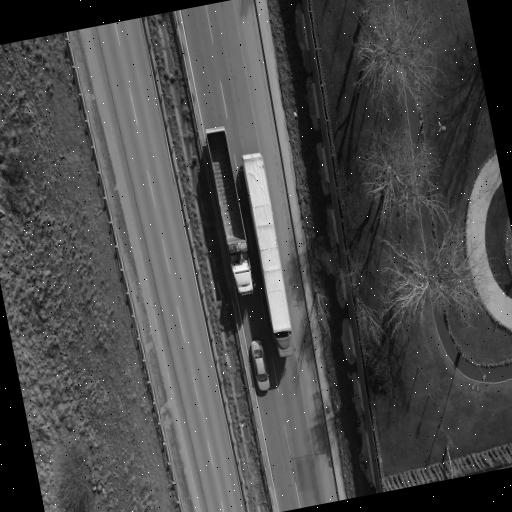UAI: (243, 152, 293, 356), (206, 126, 252, 293)
person: (251, 340, 270, 390)
